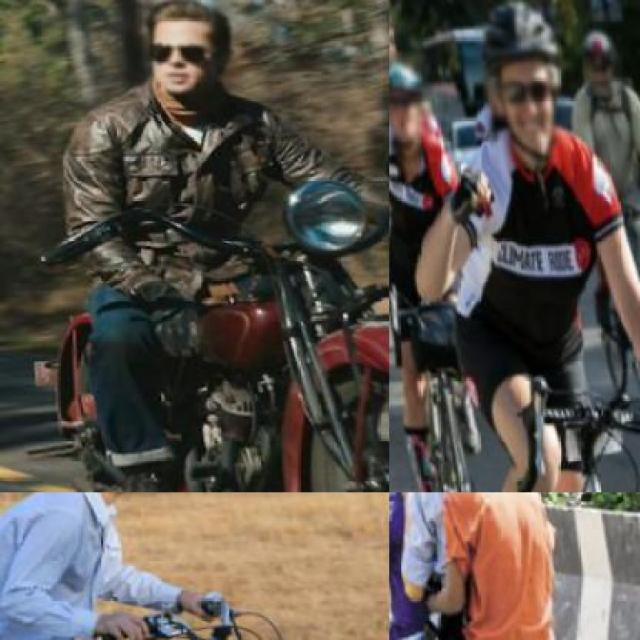With Helmet: (466, 0, 581, 172), (389, 40, 443, 157), (577, 9, 626, 92)
Without Helmet: (117, 0, 248, 106)
